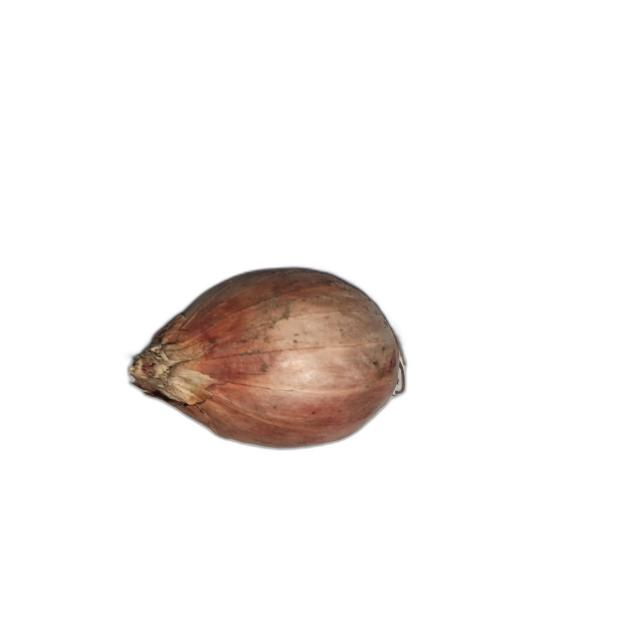onion: (124, 265, 410, 453)
